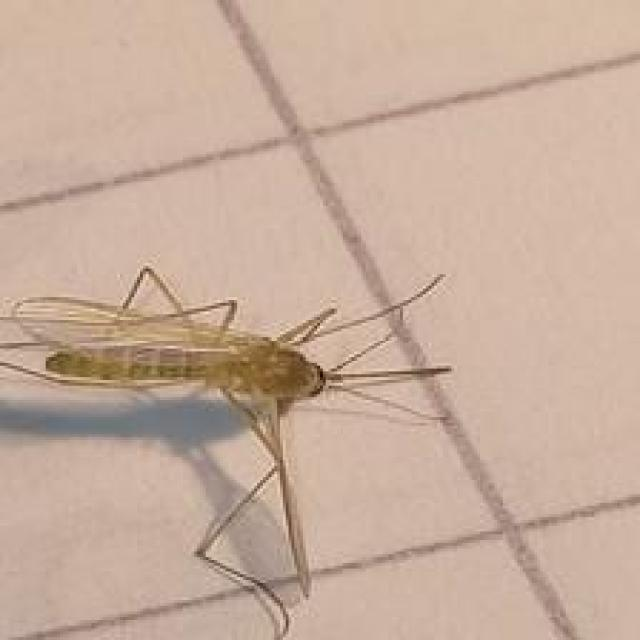Culex: (0, 264, 454, 638)
